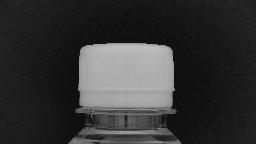Good Cap: (68, 40, 182, 119)
